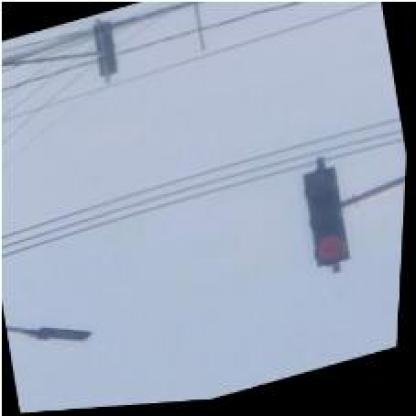red: (300, 168, 356, 275)
